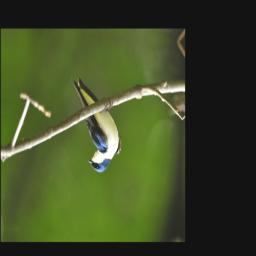Swallow: (69, 77, 124, 175)
